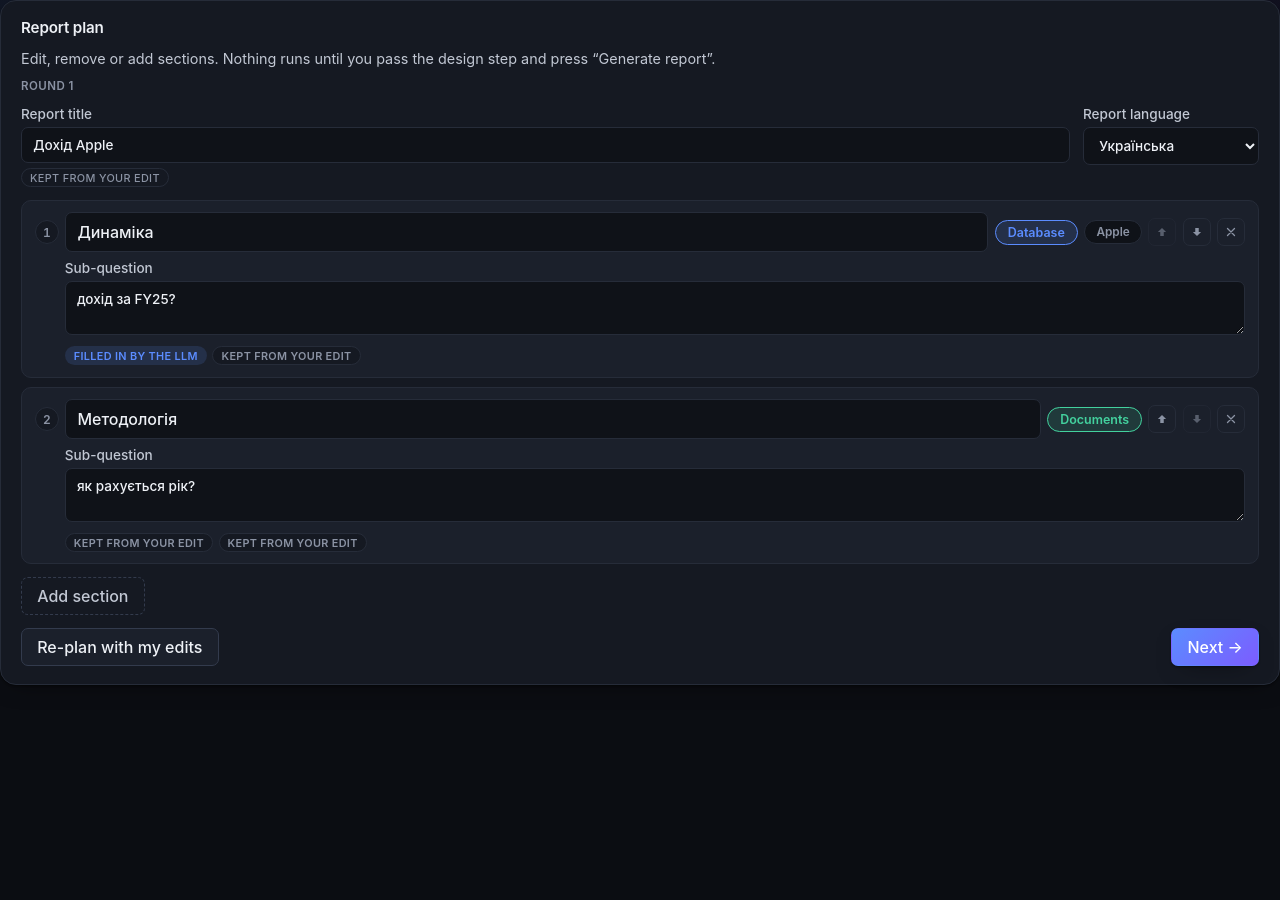
Test: PlanEditor › stops attributing fields to the model once the user restructures the plan
The image size is (1280, 900).
Expected: the text "filled in by the LLM" is shown, [65, 346, 207, 365]
Click the button named "Move down" next to "Apple" at (1197, 232), box [1183, 218, 1211, 246]
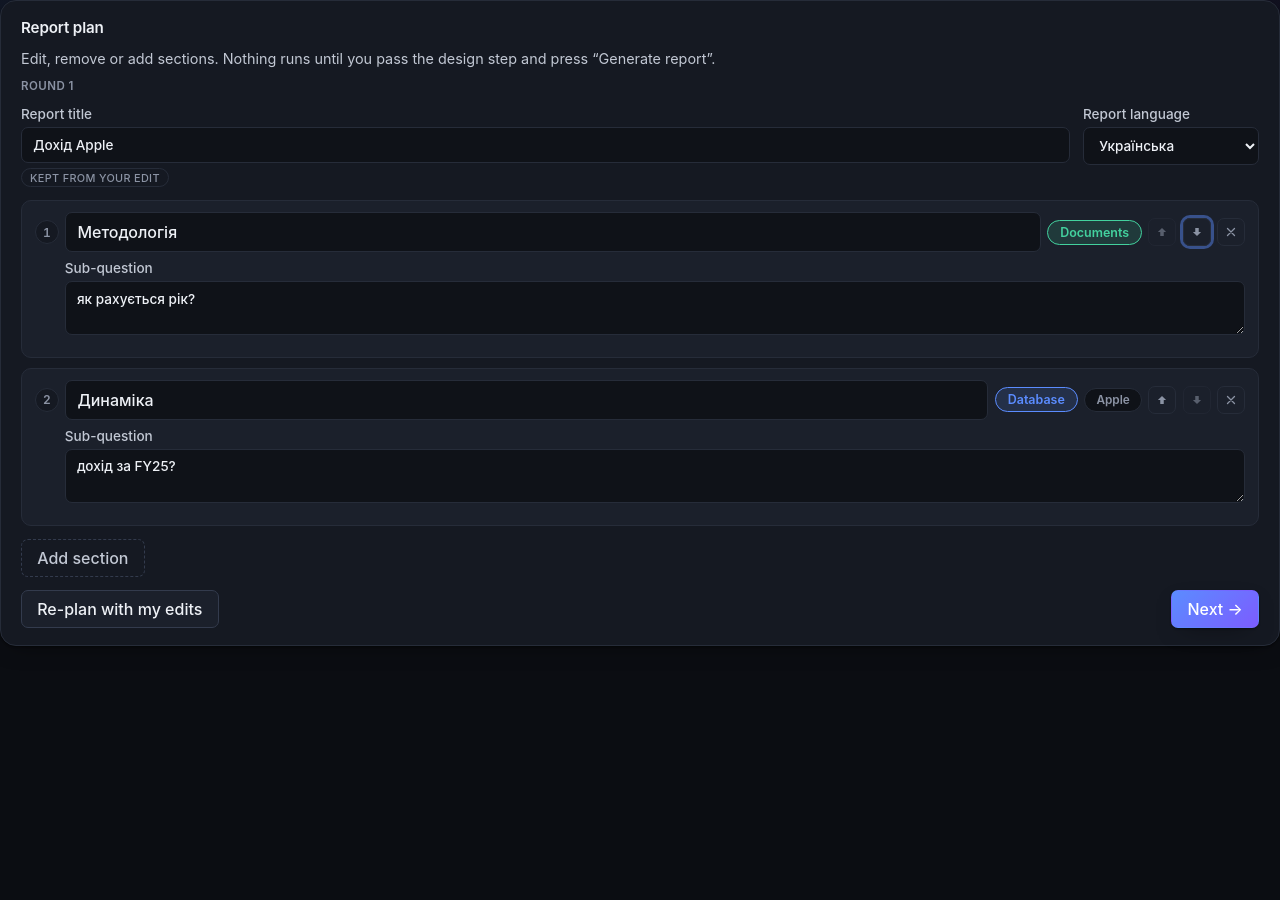
Expected: the field named "Section title" next to "Documents" holds "Методологія", [65, 212, 1041, 252]
Expected: the text "filled in by the LLM" is gone
